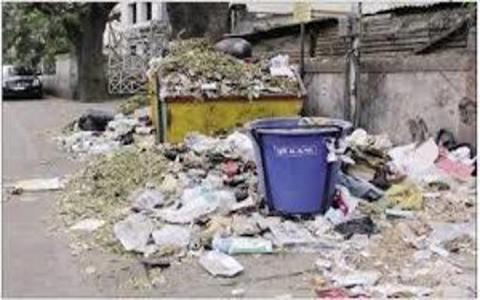overflowing garbage: (151, 59, 251, 270)
